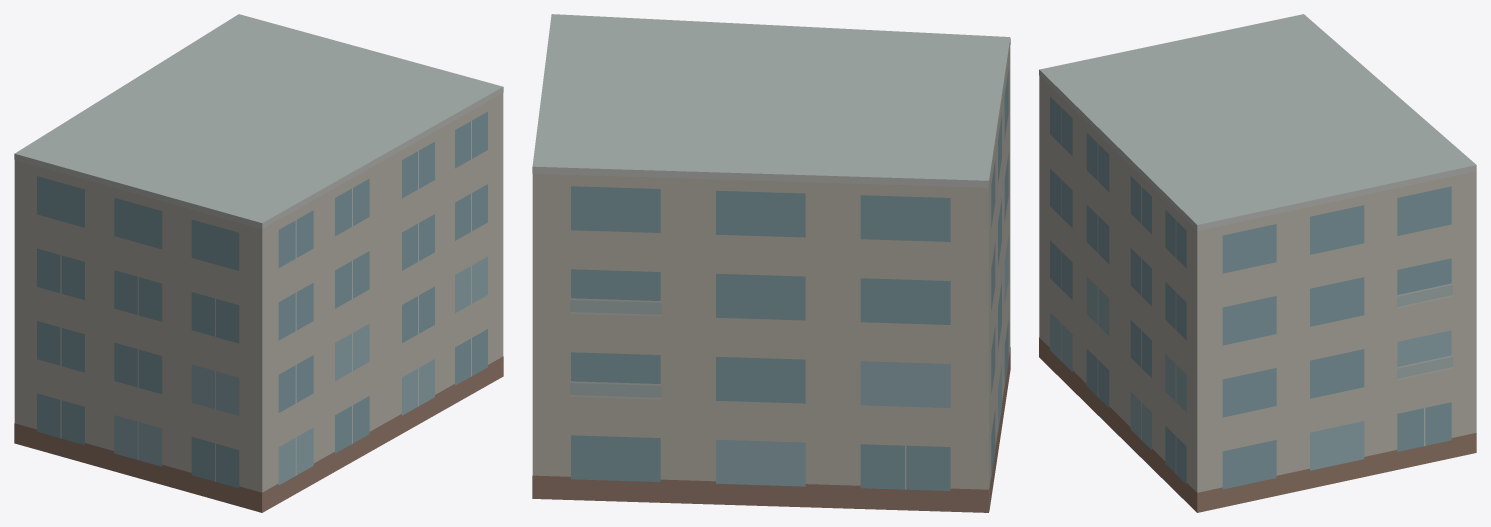
File: survey-upis-32699123.glb
3 views of the same model, side by side, from view 1: azimuth 30°, elevation 25°; view 2: azimuth 150°, elevation 25°; view 3: azimuth 270°, elevation 25° (orthographic). The views are drawn at different scales.
Visible parts, largest first — view 1: survey-upis-32699123.tmp; view 2: survey-upis-32699123.tmp; view 3: survey-upis-32699123.tmp.
Part boxes in pixels (bbox=[...]): survey-upis-32699123.tmp: bbox=[14, 14, 503, 512]; survey-upis-32699123.tmp: bbox=[532, 14, 1010, 512]; survey-upis-32699123.tmp: bbox=[1039, 14, 1476, 512].
Size of the model in its own units: 18.41 by 11.7 by 16.13.
